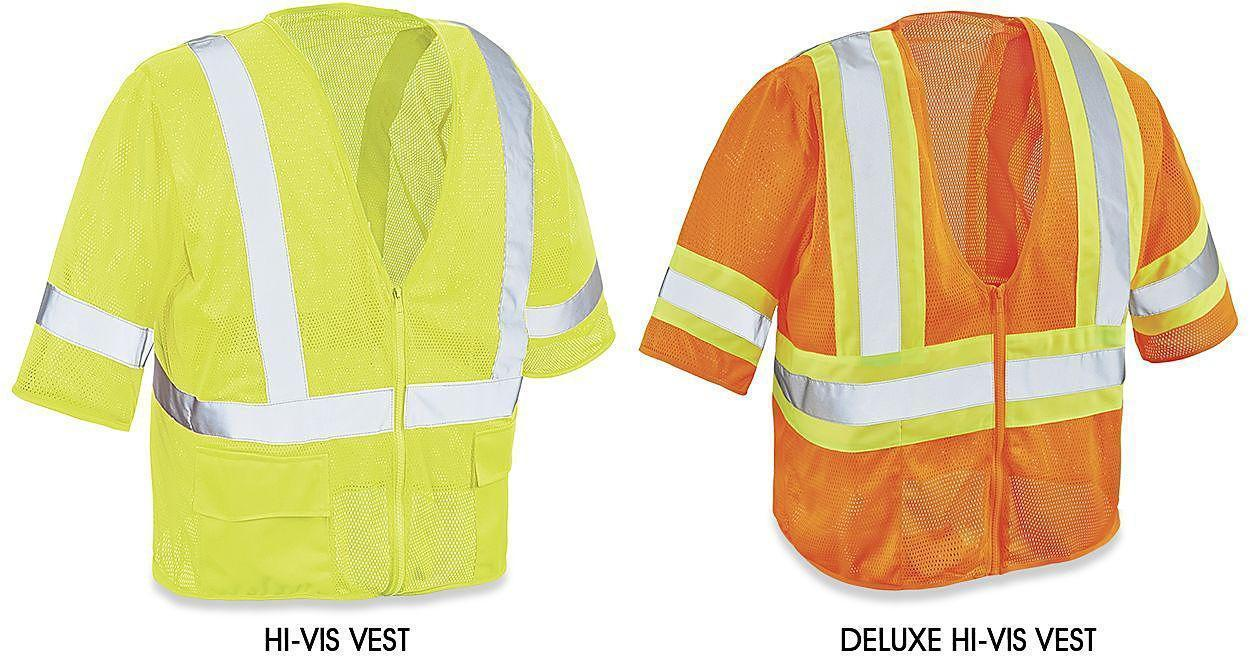Glass: (21, 0, 623, 636), (627, 2, 1249, 599)
